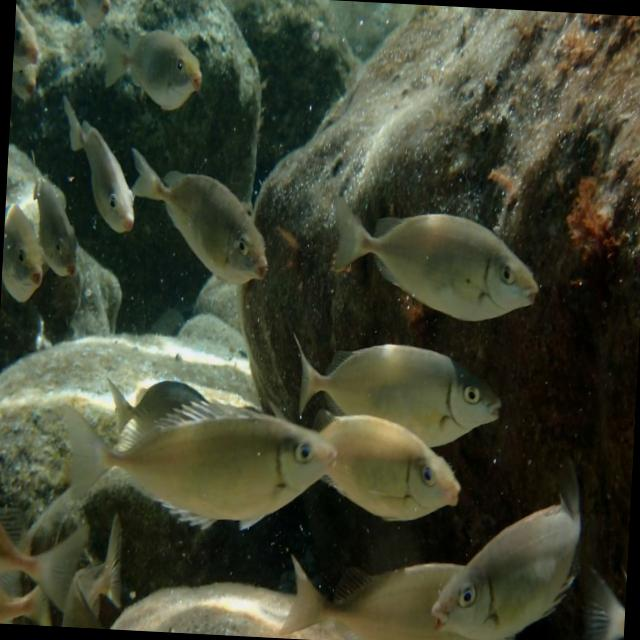Sokar Baligi: (48, 387, 349, 544), (319, 182, 552, 338), (427, 446, 603, 640), (125, 140, 278, 309), (92, 19, 208, 120)
